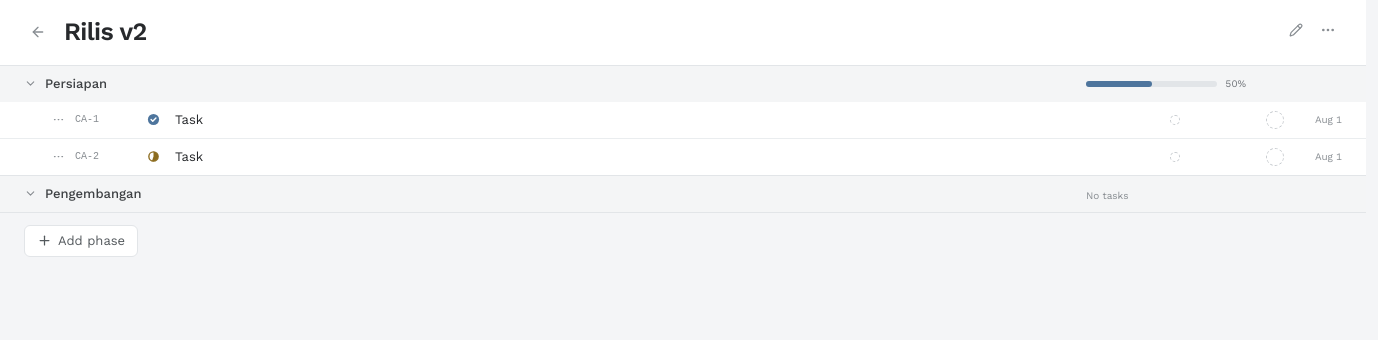
Scenario: TrackerProjectPage project and phase management › renames the project with the current version and updates the header
The width and height of the screenshot is (1378, 340).
Expected: the heading "Rilis v2" is shown, [64,17,147,46]
Click the button named "rename project".
click(1296, 30)  # box [1282,16,1310,44]
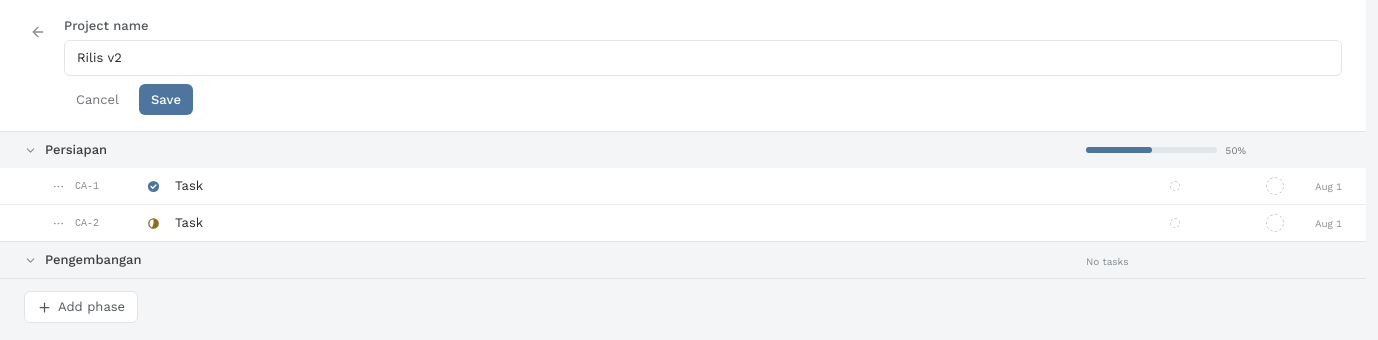
Replace the text in the field labelled "Project name" with "Rilis v2.1" at x=703, y=58, box [64,40,1342,76]
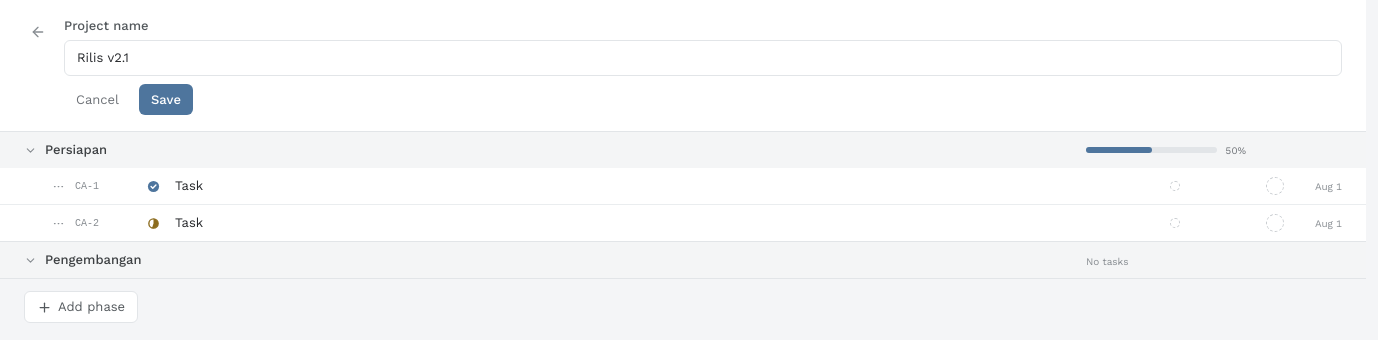
Click the button "Save".
click(166, 99)  # box [139,84,193,115]
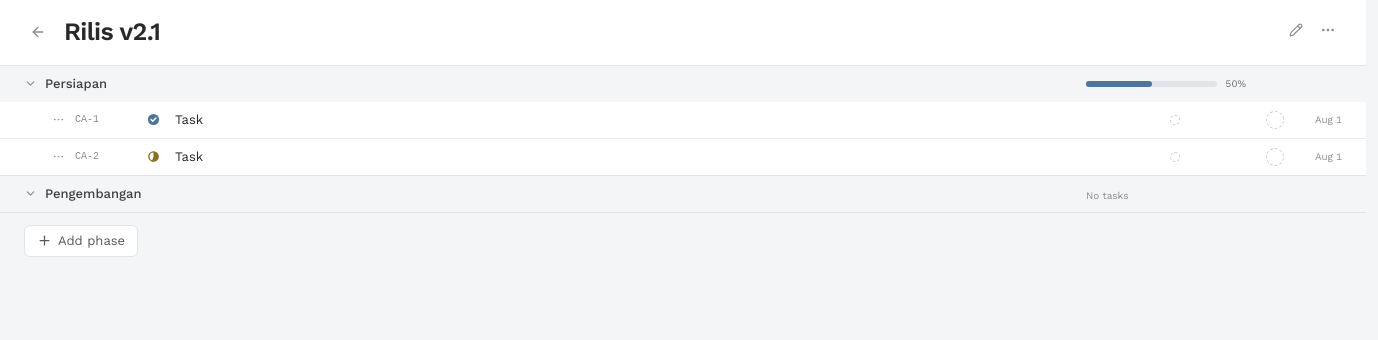
Result: the heading "Rilis v2.1" is shown at [64,17,160,46]
